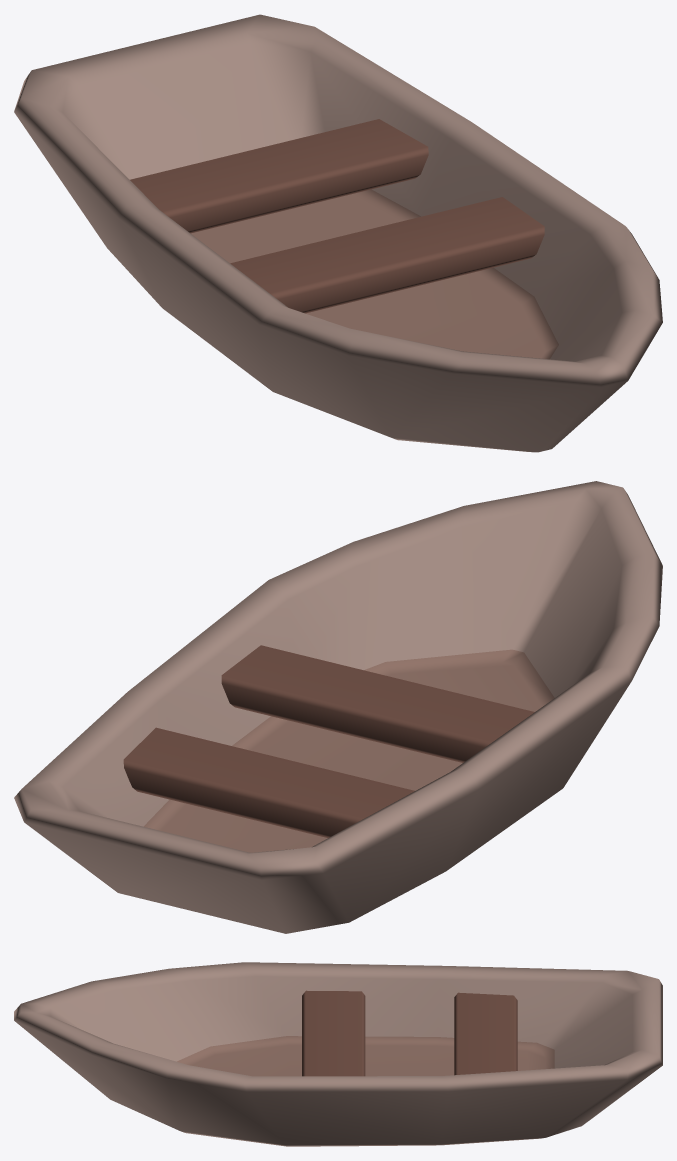
File: boat_002.gltf
3 renders of one model, top to bottom at view 1: azimuth 30°, elevation 25°; view 2: azimuth 150°, elevation 25°; view 3: azimuth 270°, elevation 25°, orthographic. The views are drawn at different scales.
Visible parts, largest first — view 1: boat_002; view 2: boat_002; view 3: boat_002.
Part boxes in pixels (left/top/right/bottom): boat_002: left=14, top=14, right=662, bottom=452; boat_002: left=14, top=481, right=662, bottom=933; boat_002: left=14, top=962, right=662, bottom=1146.
Size of the model in its own units: 1.82 by 0.6353 by 3.99.
1 material, 1 textured.
